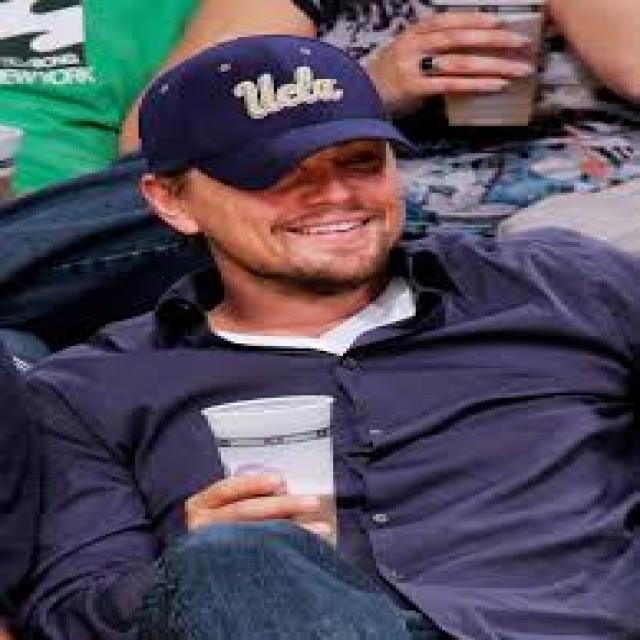cap: (122, 28, 442, 222)
